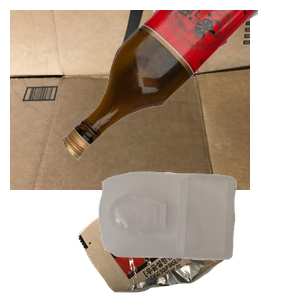cardboard: (10, 10, 250, 190)
glass: (60, 10, 300, 163)
plastic: (96, 169, 300, 300)
trash: (76, 170, 300, 300)
